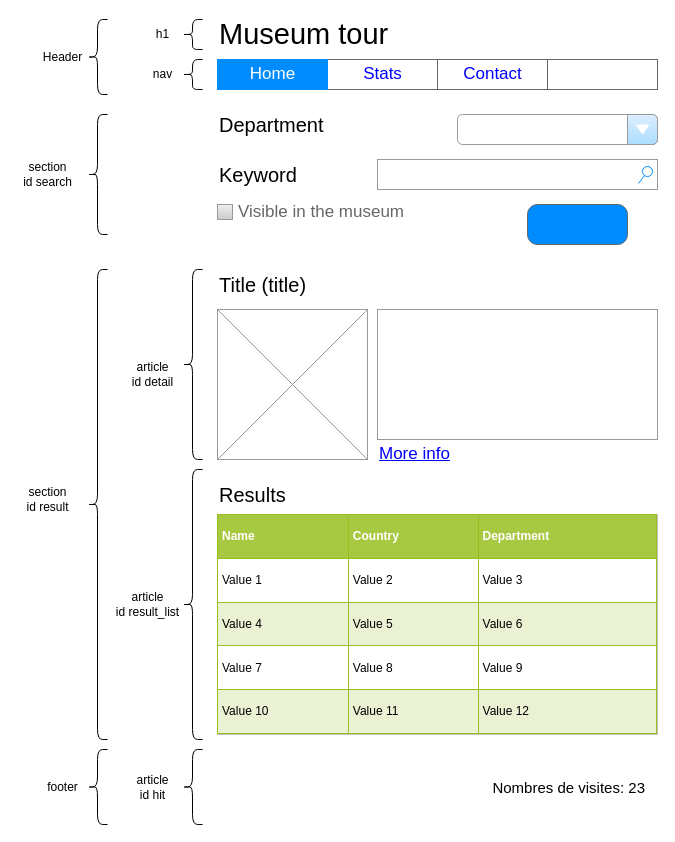
The diagram is 675 pixels wide and 842 high, and some of its shapes have lost their labels. Each missing label, with the centre of its shape:
All: the point at 557,129
Period Country of origin Year of accession Date of object creditLine Tags:: the point at 517,374
Search: the point at 577,224
